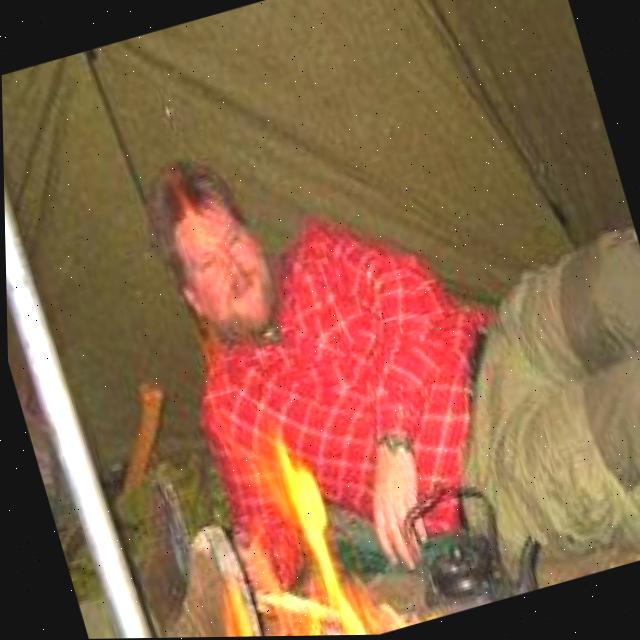fire: (191, 432, 431, 638)
